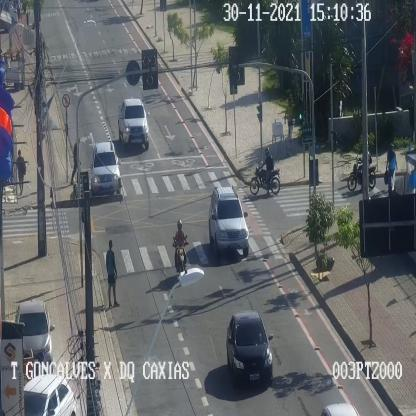car: (226, 310, 272, 383), (208, 186, 249, 254), (16, 301, 52, 372), (23, 374, 76, 415), (90, 142, 119, 194), (119, 98, 148, 149)
motorbike: (249, 146, 280, 194), (347, 144, 376, 190), (172, 220, 188, 271)
person: (106, 239, 119, 306), (386, 142, 397, 190), (16, 149, 26, 194), (284, 98, 294, 141), (71, 140, 80, 184)
